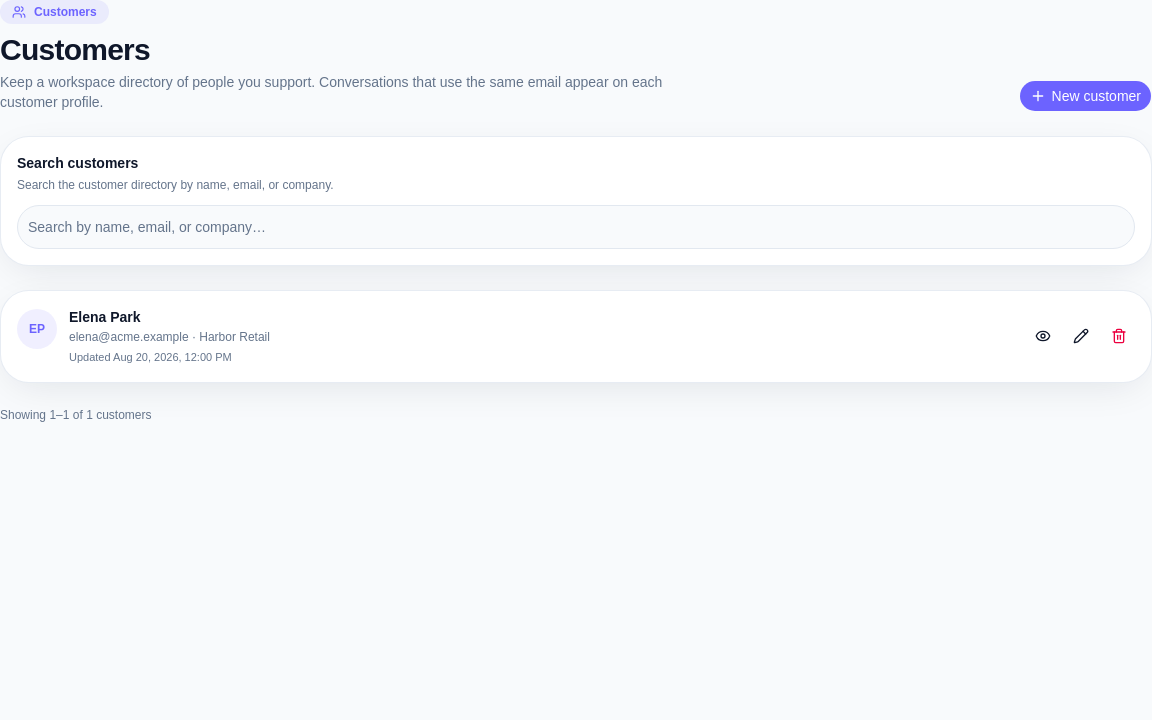
it: CustomersBoard › shows the API error when customer deletion is blocked
Expected: the text "Elena Park" is shown, [69,309,141,325]
Click the button named "Delete Elena Park": (1119, 336) [1103,320,1135,352]
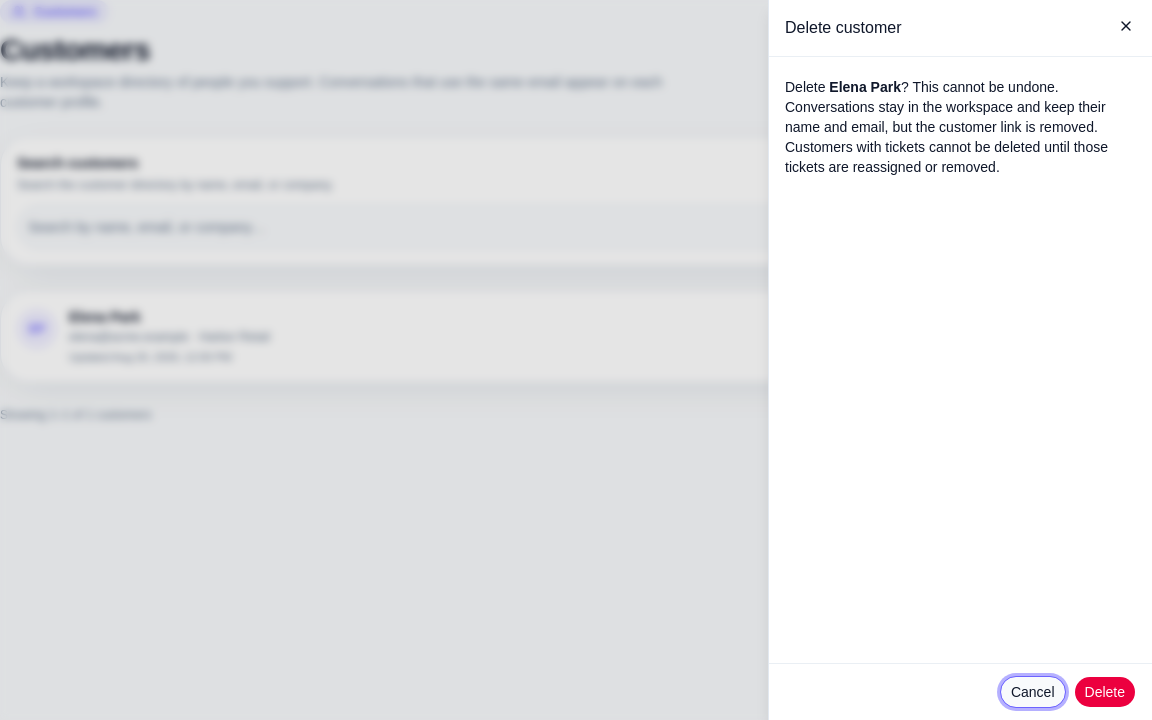
Click the button "Delete": (1105, 692) [1074,676,1136,708]
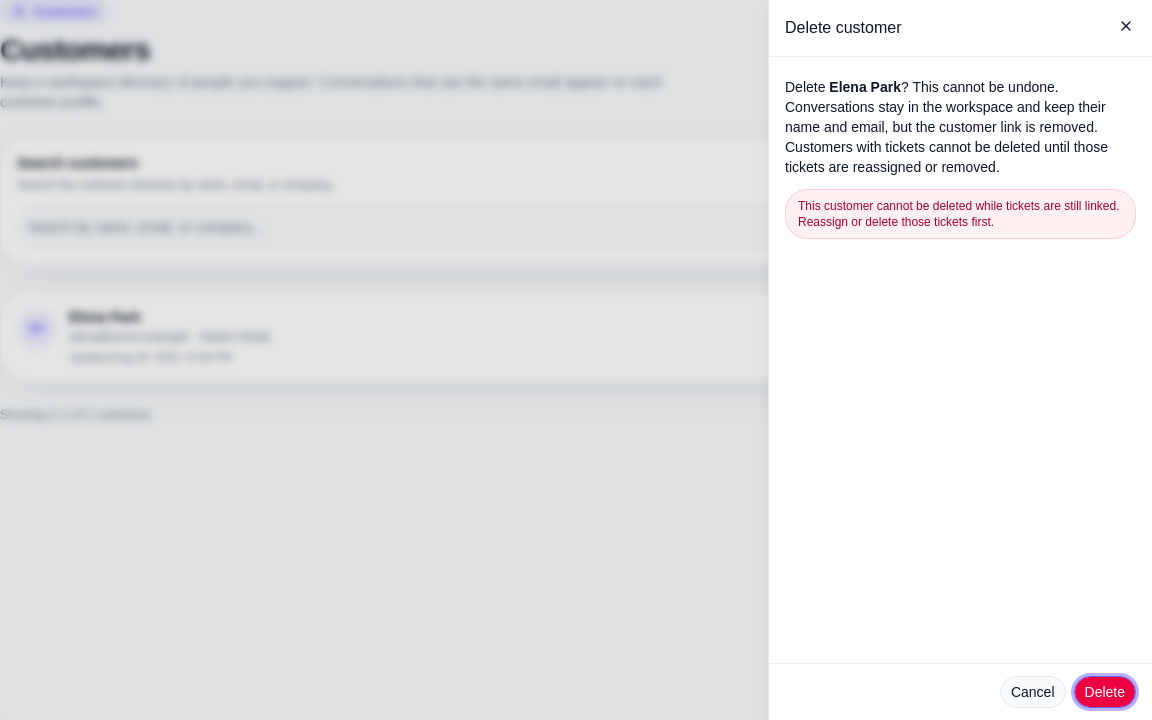
Result: the heading "Delete customer" is shown at [785,19,902,36]
Result: the text "This customer cannot be deleted while tickets are still linked. Reassign or delete those tickets first." is shown at [798,199,1120,229]
